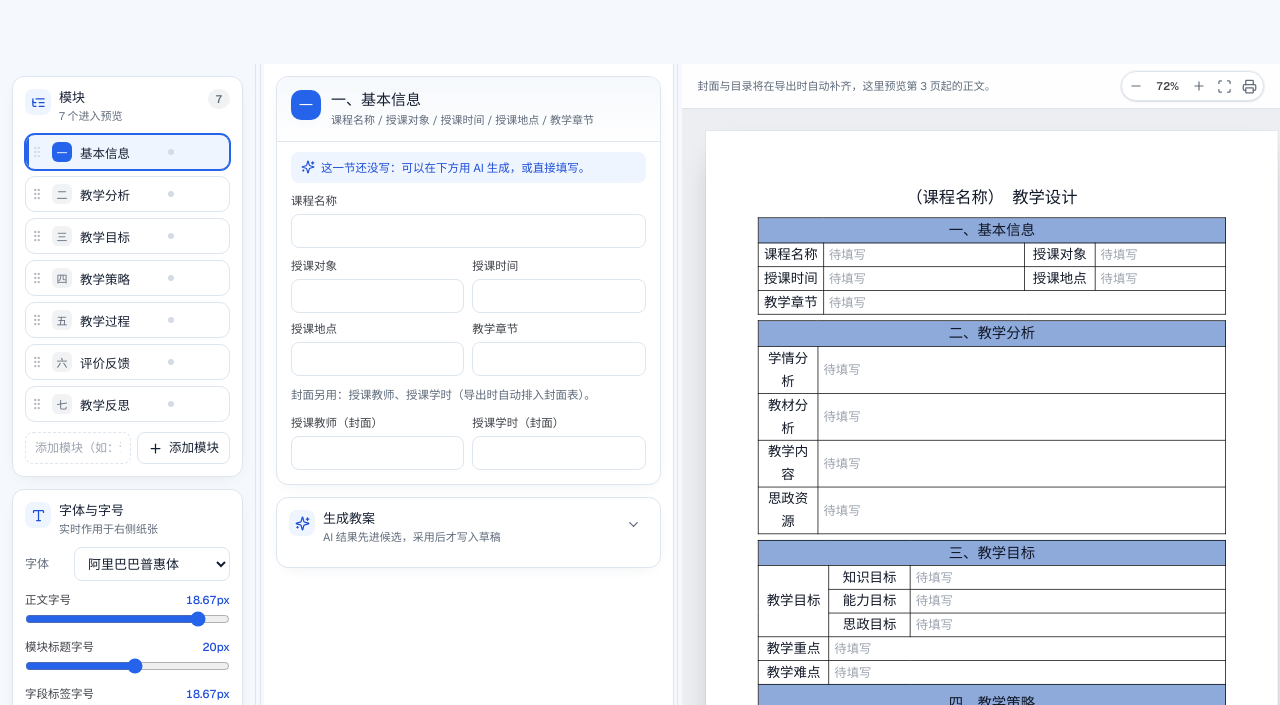
Test: 教案工作台 · 三栏与预览 › 排版与间距：滑杆、行高、页边距实时写进纸张 CSS 变量
Set the slider with test id "lw-size-base" to "17" at (151, 619), box top-left (25, 610), bottom-right (230, 628)
(page scrolled)
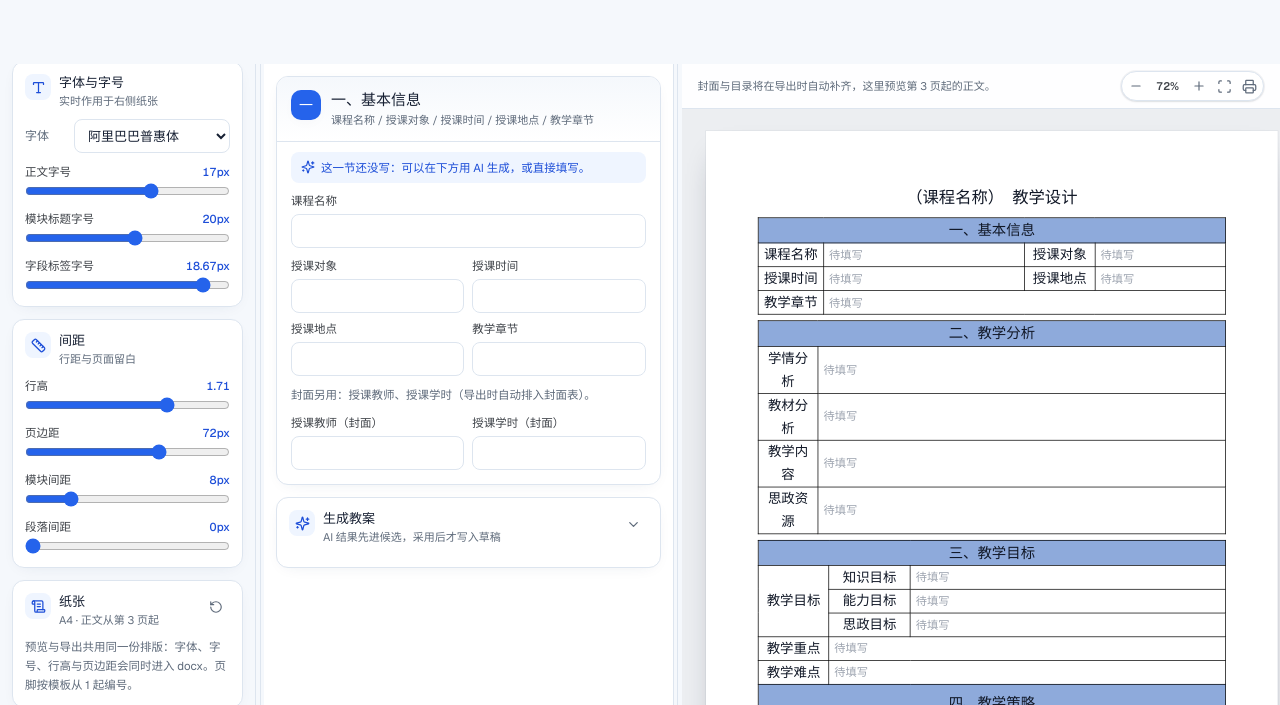
Set the slider with test id "lw-line-height" to "1.9" at (203, 405), box top-left (25, 396), bottom-right (230, 414)
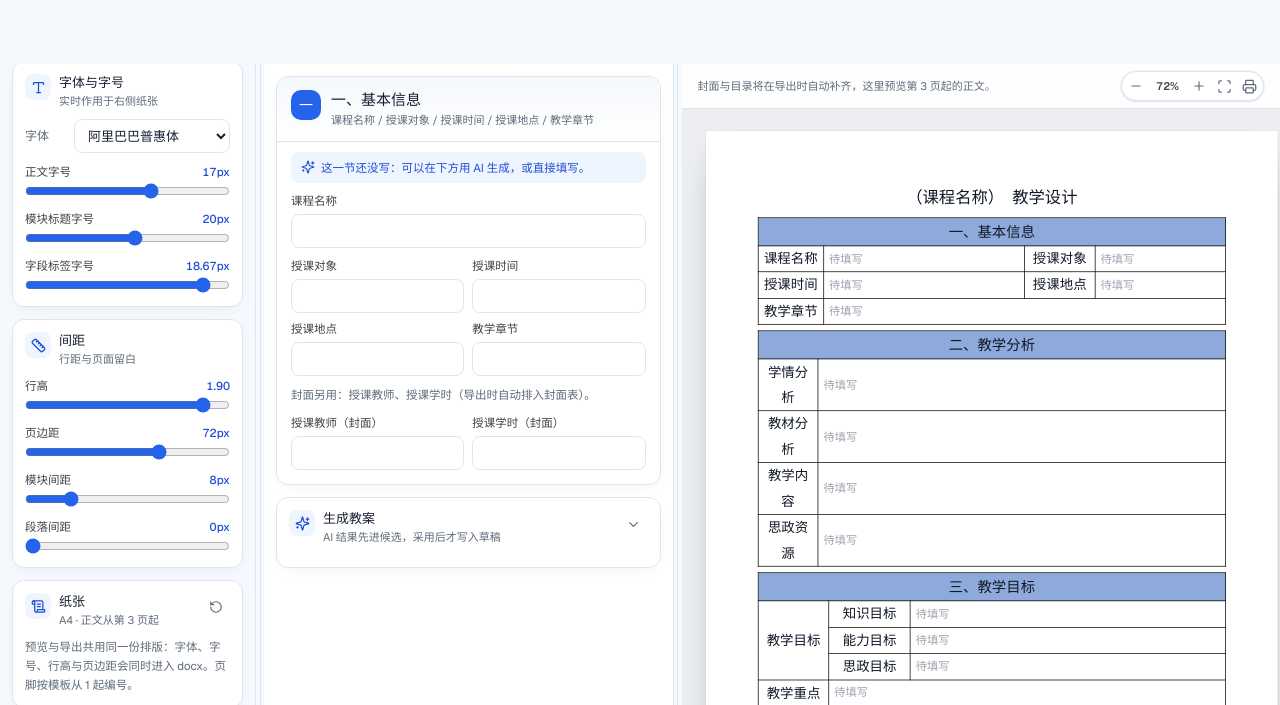
Set the slider with test id "lw-page-margin" to "64" at (138, 452), box top-left (25, 443), bottom-right (230, 461)
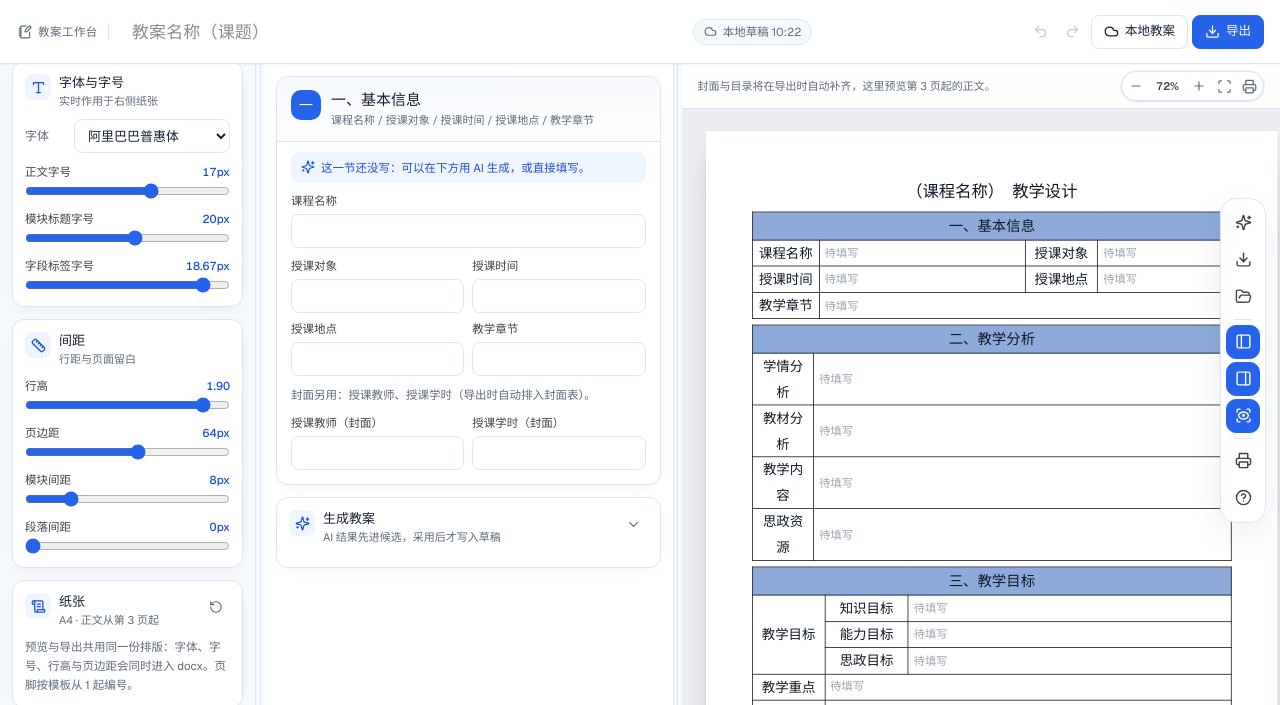
Result: the text "17px" is shown at top-left (203, 164), bottom-right (230, 179)
Result: the text "64px" is shown at top-left (203, 425), bottom-right (230, 440)
